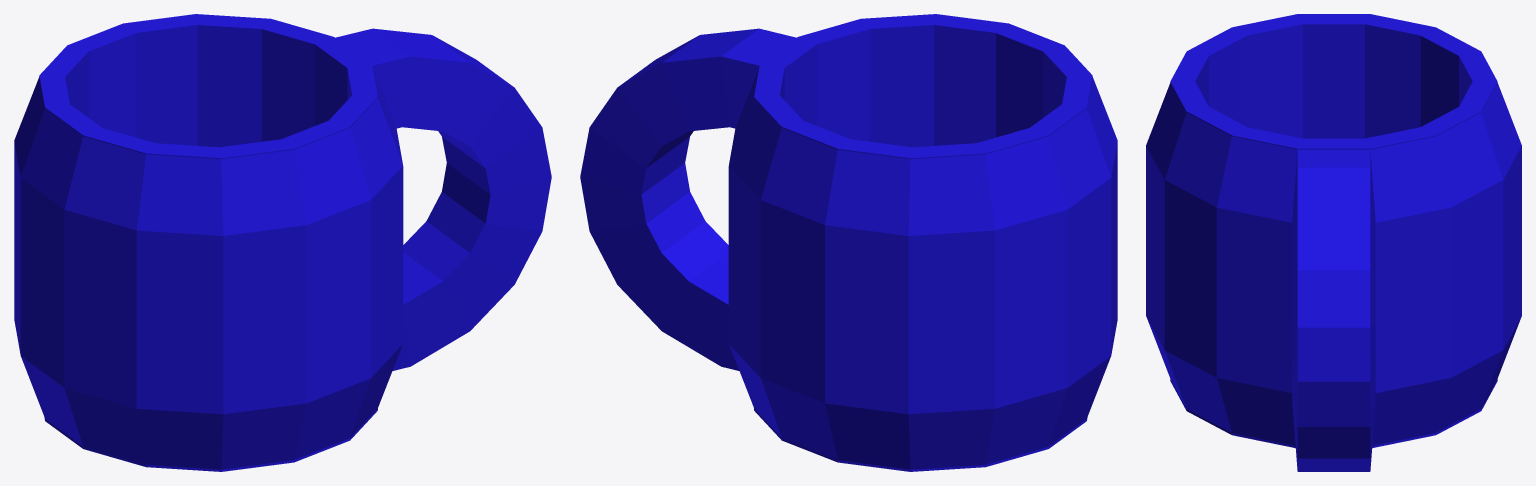
File: cup.glb
3 renders of one model, left to right at view 1: azimuth 30°, elevation 25°; view 2: azimuth 150°, elevation 25°; view 3: azimuth 270°, elevation 25°, orthographic. The views are drawn at different scales.
Parts seen in each view (by area): view 1: Cylinder; view 2: Cylinder; view 3: Cylinder.
Boxes of the visible parts, x1,y1,x2,y2 form: Cylinder: (14, 14, 551, 471); Cylinder: (580, 14, 1117, 471); Cylinder: (1146, 14, 1521, 471).
Size of the model in its own units: 3.31 by 2.02 by 2.3.
